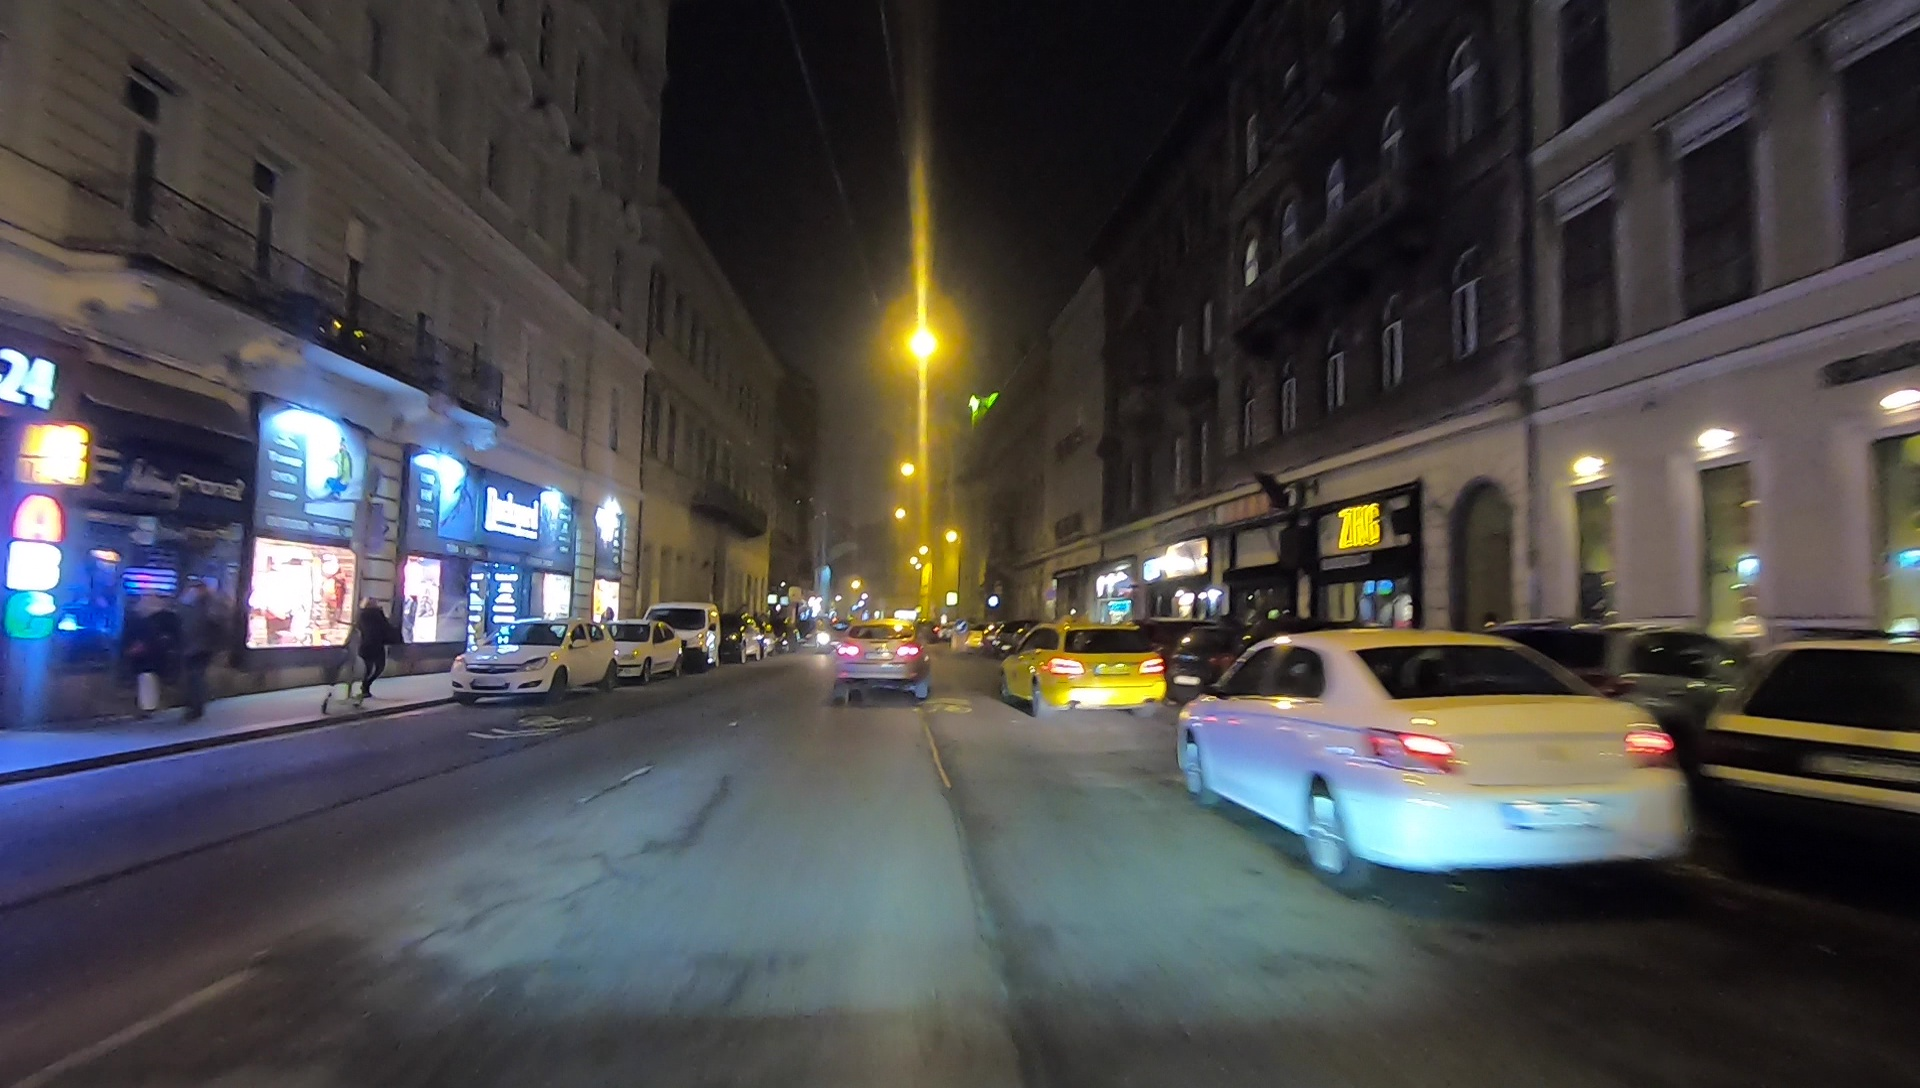person: (182, 582, 232, 721), (352, 597, 401, 697), (138, 597, 178, 710)
